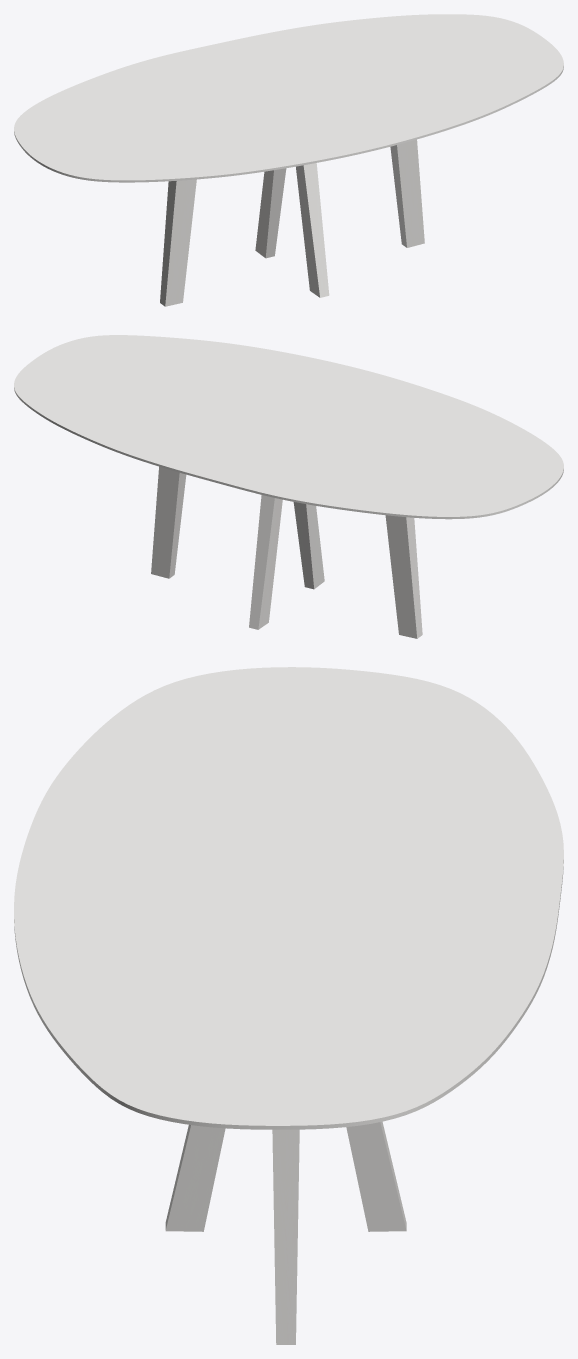
File: purewhite_danish_facet_searwalnut.glb
3 views of the same model, one above another, from view 1: azimuth 30°, elevation 25°; view 2: azimuth 150°, elevation 25°; view 3: azimuth 270°, elevation 25° (orthographic). The views are drawn at different scales.
Visible parts, largest first — view 1: facet_danish, searwalnut; view 2: facet_danish, searwalnut; view 3: facet_danish, searwalnut.
Boxes of the visible parts, x1=… form: facet_danish: x1=14, y1=14, x2=563, y2=182; searwalnut: x1=160, y1=139, x2=424, y2=306; facet_danish: x1=14, y1=335, x2=563, y2=519; searwalnut: x1=151, y1=466, x2=422, y2=638; facet_danish: x1=14, y1=667, x2=563, y2=1129; searwalnut: x1=165, y1=1121, x2=406, y2=1344.
Size of the model in its own units: 7.5 by 2.5 by 3.8.
1 material, 1 textured.
